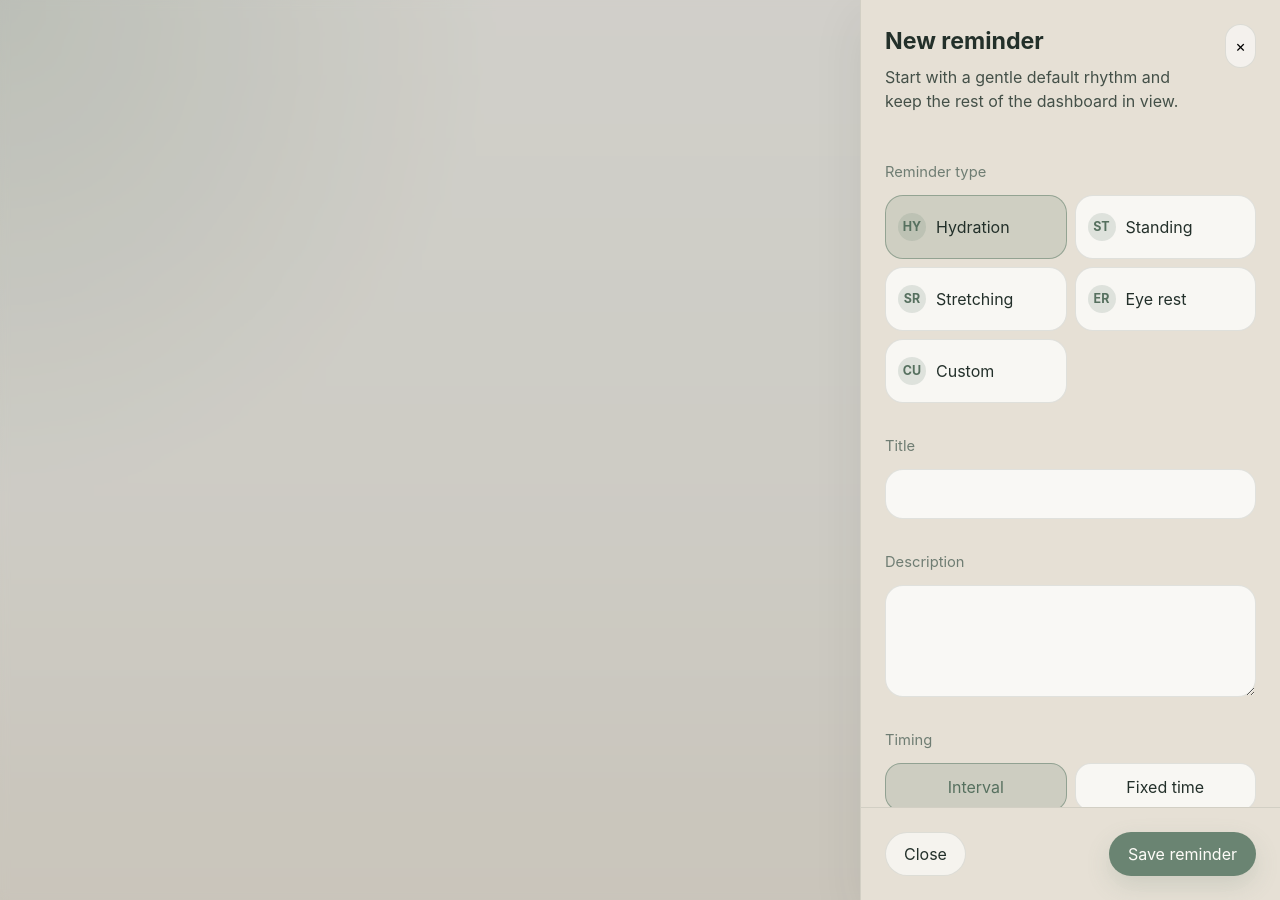
Test case: ReminderDrawer › blocks active window save when both boundaries are identical
The width and height of the screenshot is (1280, 900).
Type "Deep work reset" into the field labelled "Title".
click(1070, 494); type("Deep work reset")  # box [885,469,1256,519]
(page scrolled)
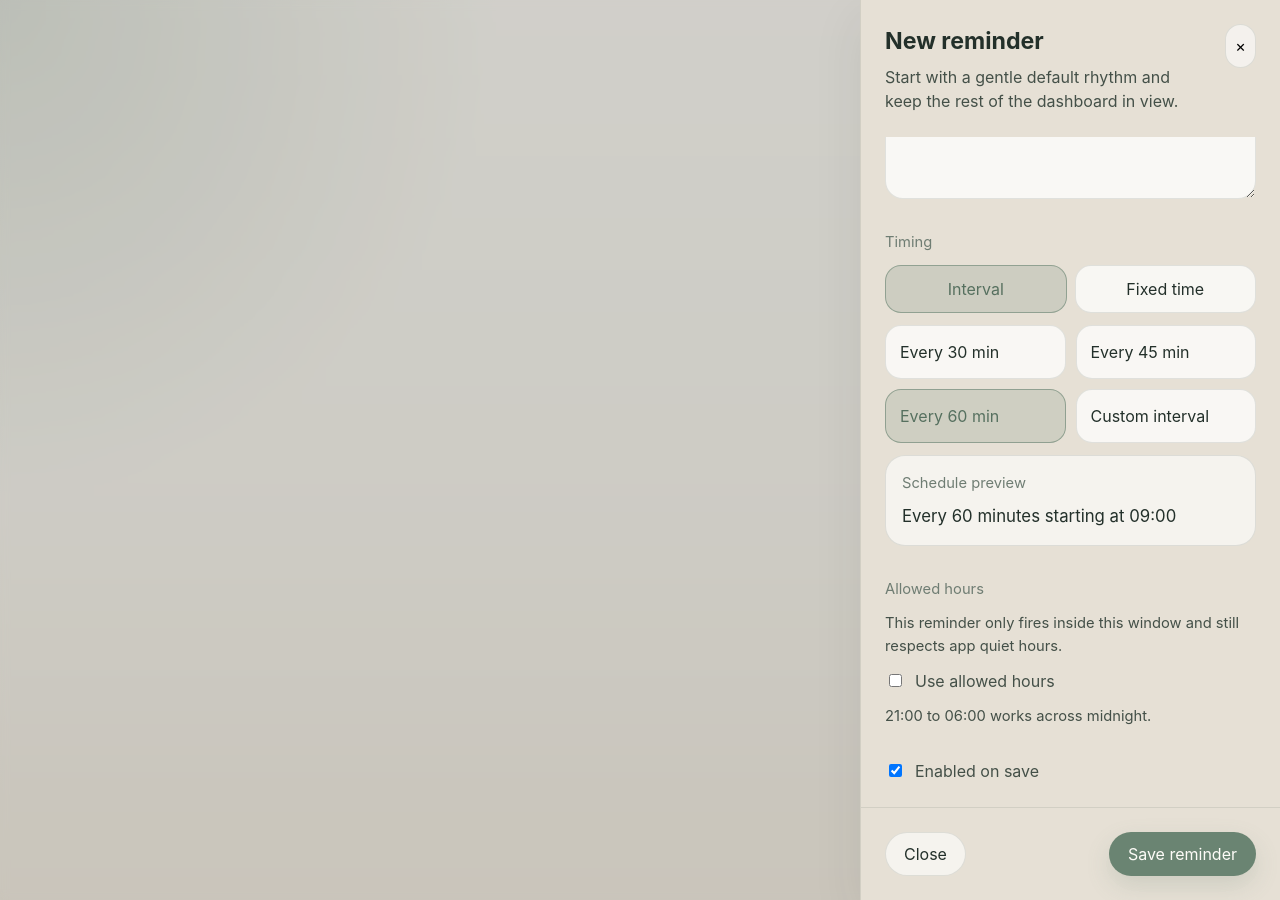
Click the checkbox labelled "Use allowed hours".
click(896, 681)  # box [889,674,902,687]
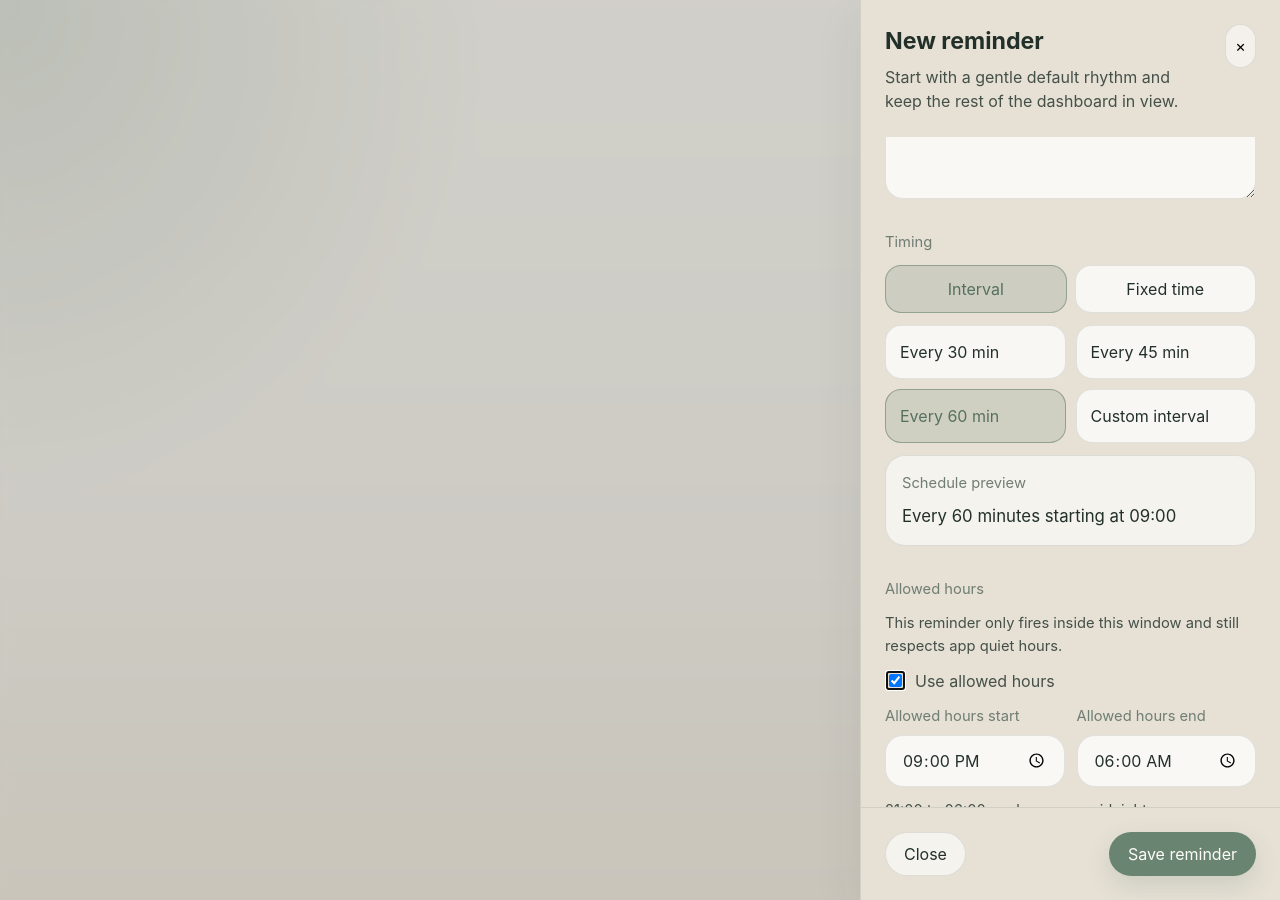
Replace the text in the time field labelled "Allowed hours start" with "08:00" at [975, 761], box [885,735,1064,787]
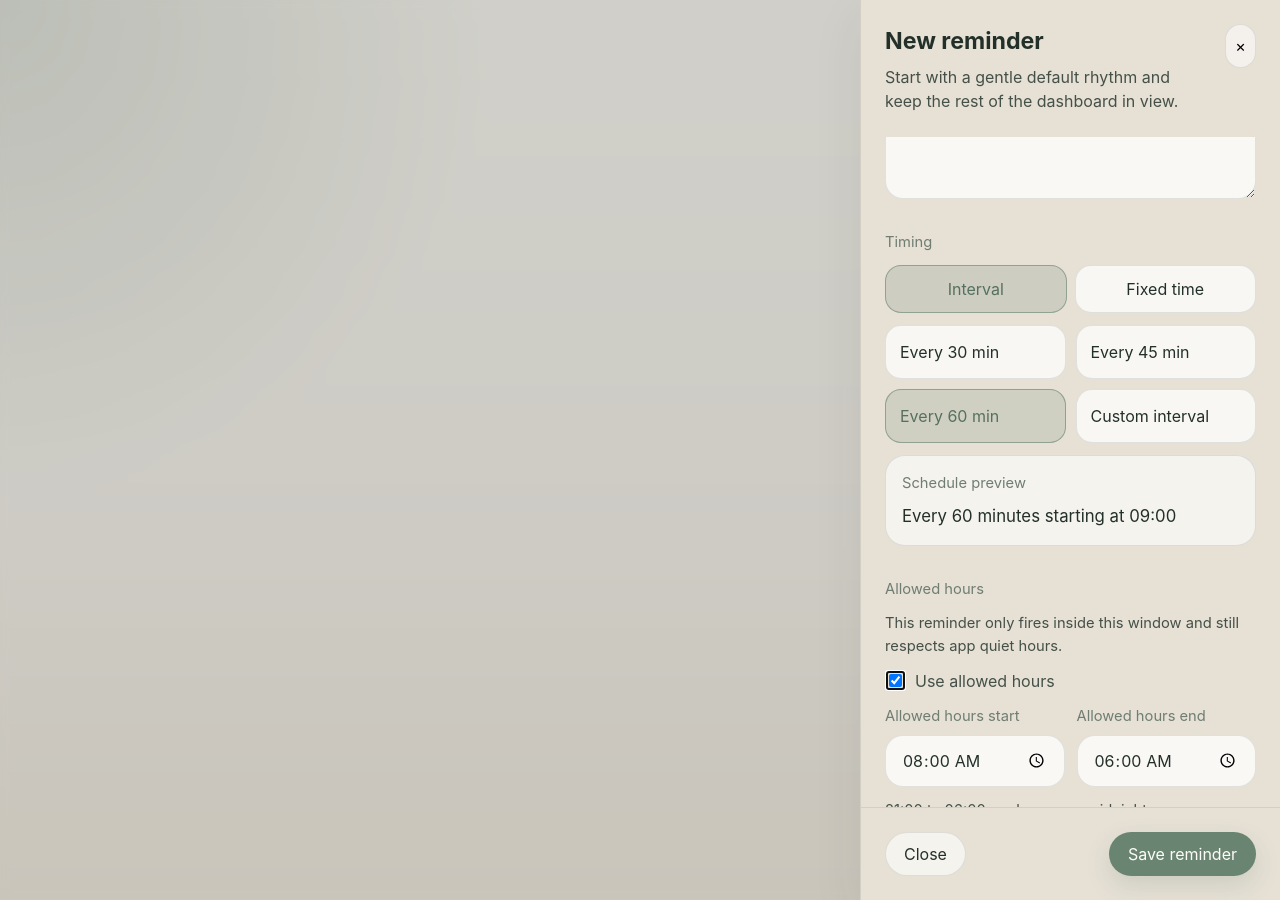
Replace the text in the time field labelled "Allowed hours end" with "08:00" at [1166, 761], box [1076,735,1256,787]
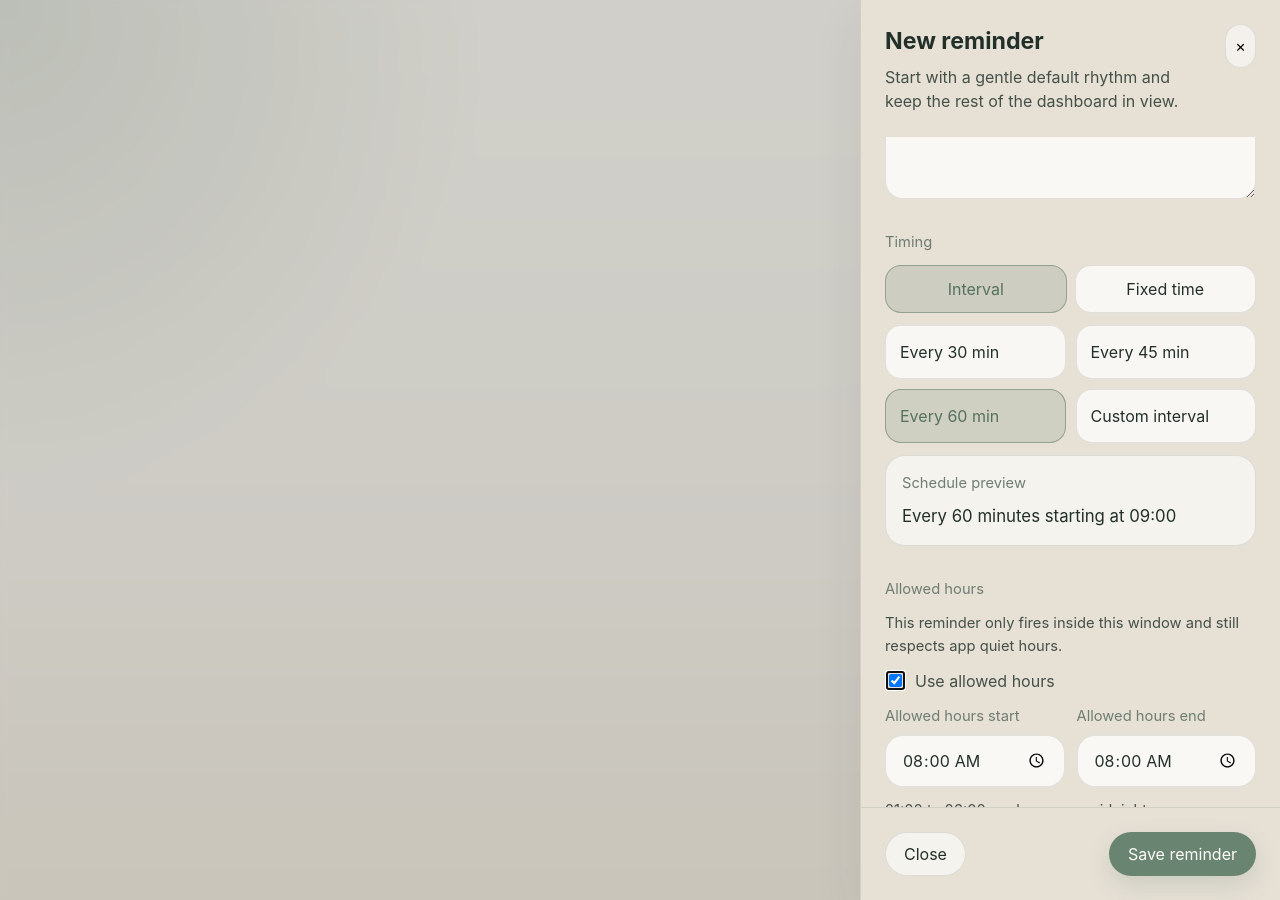
Click the button "Save reminder".
click(1182, 854)  # box [1109,832,1256,876]
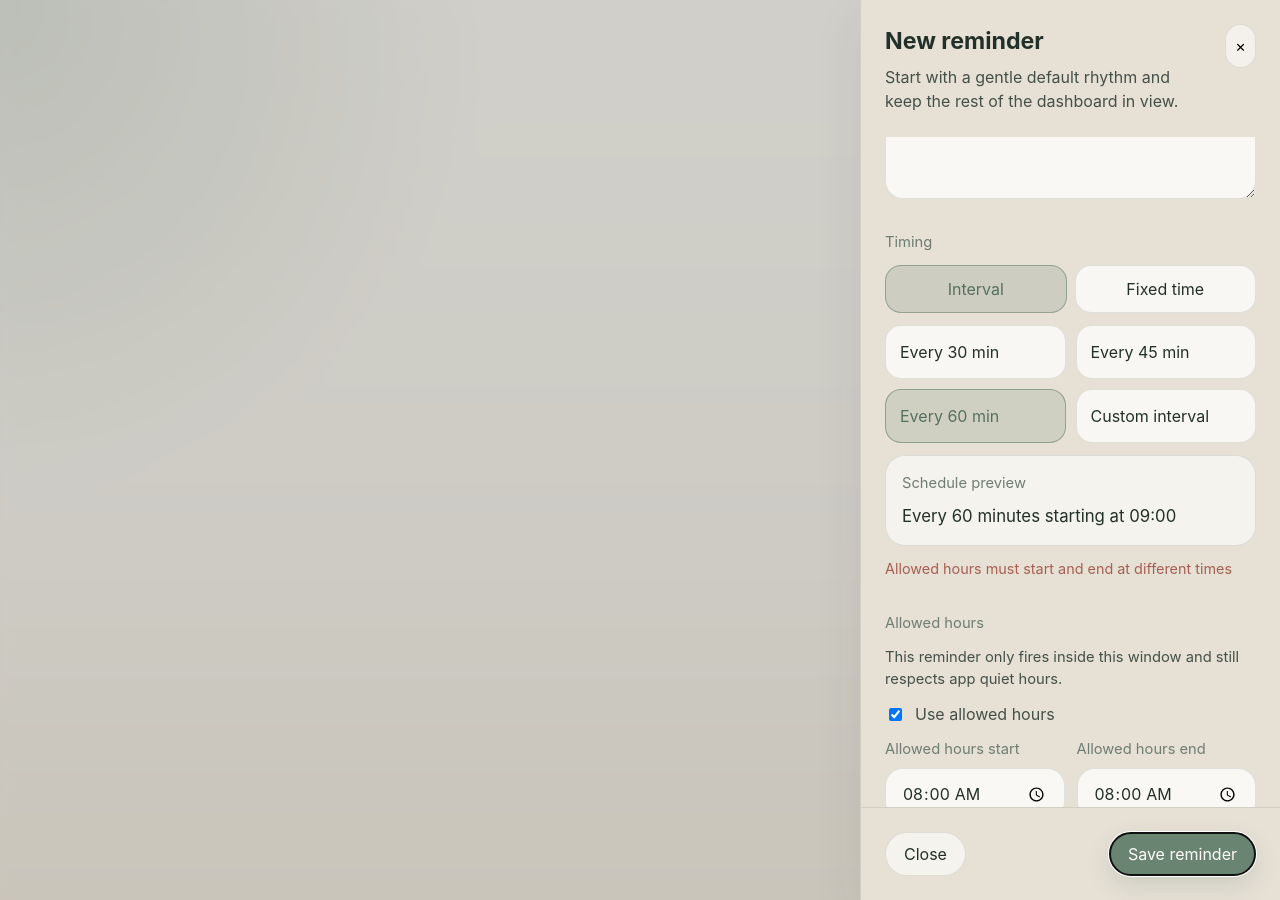
Check: the text "Allowed hours must start and end at different times" is shown, box [885,558,1256,580]
